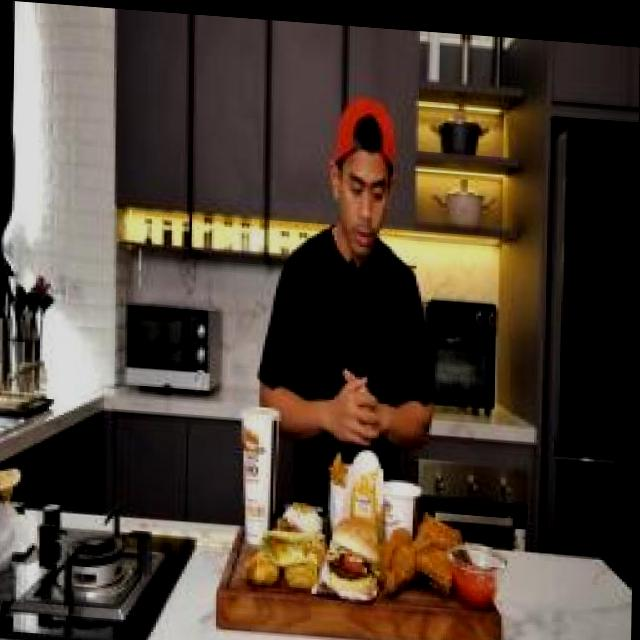AW cola: (237, 394, 292, 547)
black pepper rice bowl: (274, 494, 329, 541)
cheese burger: (334, 502, 384, 543)
chicken waffle: (329, 445, 355, 509)
crispy corn: (384, 463, 425, 540)
french fries: (349, 448, 385, 508)
fried chicken: (376, 500, 467, 601)
mango chicken pocket: (259, 515, 332, 563)
mozza burger: (325, 516, 384, 598)
perkedel: (243, 550, 284, 587), (286, 557, 322, 587)
